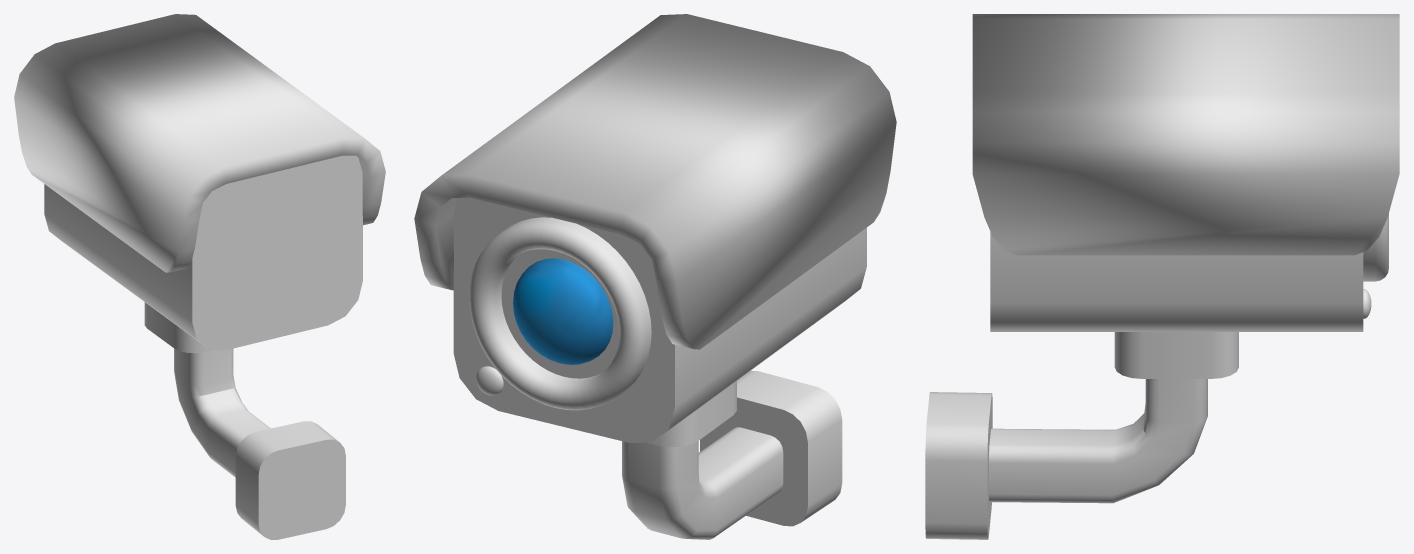
Rendered from Camera.fbx.
3 renders of one model, left to right at view 1: azimuth 30°, elevation 25°; view 2: azimuth 150°, elevation 25°; view 3: azimuth 270°, elevation 25°, orthographic. The views are drawn at different scales.
Visible parts, largest first — view 1: Cube.003, Cube.002, Cube.005, Cube.006, Cube.004; view 2: Cube.003, Cube.002, Torus.001, Cube.006, Cube.005, Sphere.001, Cube.004, Sphere.002; view 3: Cube.003, Cube.002, Cube.006, Cube.005, Cube.004, Torus.001.
Part boxes in pixels (x1,y1,x2,y2): Cube.003: [14, 14, 385, 272]; Cube.002: [44, 155, 362, 349]; Cube.005: [235, 421, 345, 539]; Cube.006: [174, 348, 270, 477]; Cube.004: [144, 302, 213, 353]; Cube.003: [414, 14, 896, 349]; Cube.002: [453, 197, 866, 442]; Torus.001: [469, 217, 651, 410]; Cube.006: [622, 427, 783, 539]; Cube.005: [700, 370, 842, 526]; Sphere.001: [513, 258, 613, 364]; Cube.004: [647, 381, 736, 447]; Sphere.002: [476, 366, 503, 395]; Cube.003: [972, 14, 1399, 255]; Cube.002: [990, 232, 1363, 331]; Cube.006: [989, 379, 1207, 503]; Cube.005: [925, 392, 992, 539]; Cube.004: [1114, 332, 1238, 378]; Torus.001: [1363, 213, 1388, 281].
Size of the model in its own units: 474 by 826 by 762.
